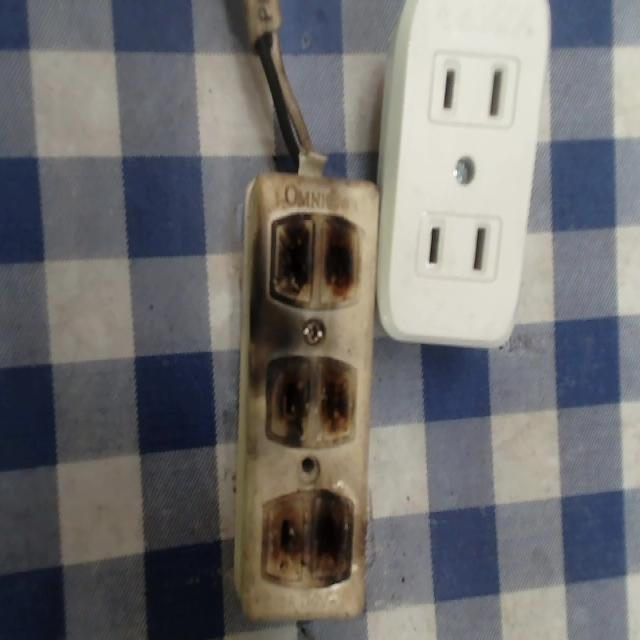-: (266, 204, 366, 308), (257, 484, 355, 589), (260, 348, 360, 449)
